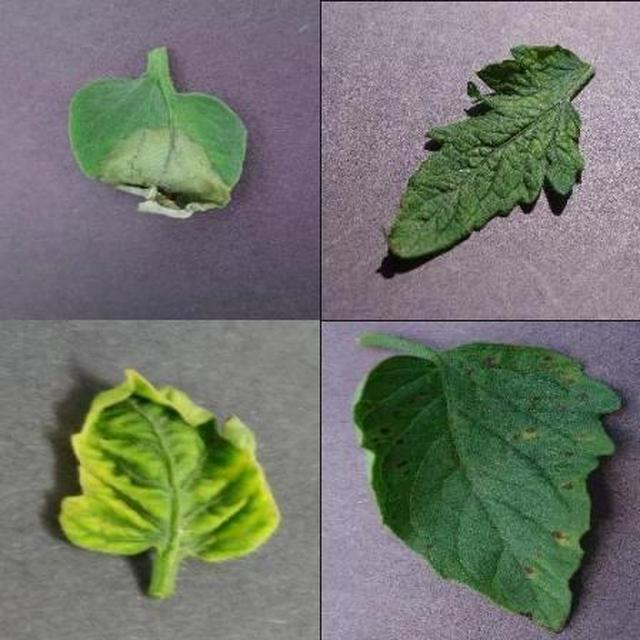Late Blight Leaf: (227, 208, 640, 640)
